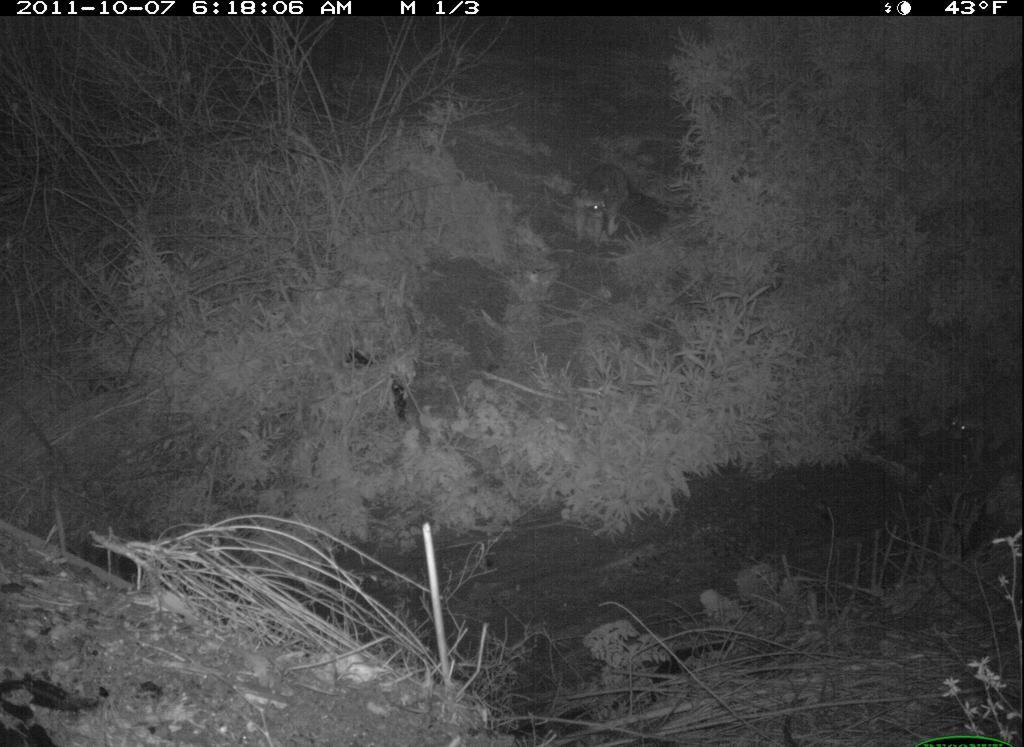raccoon: (543, 152, 664, 250), (945, 397, 1023, 486)
